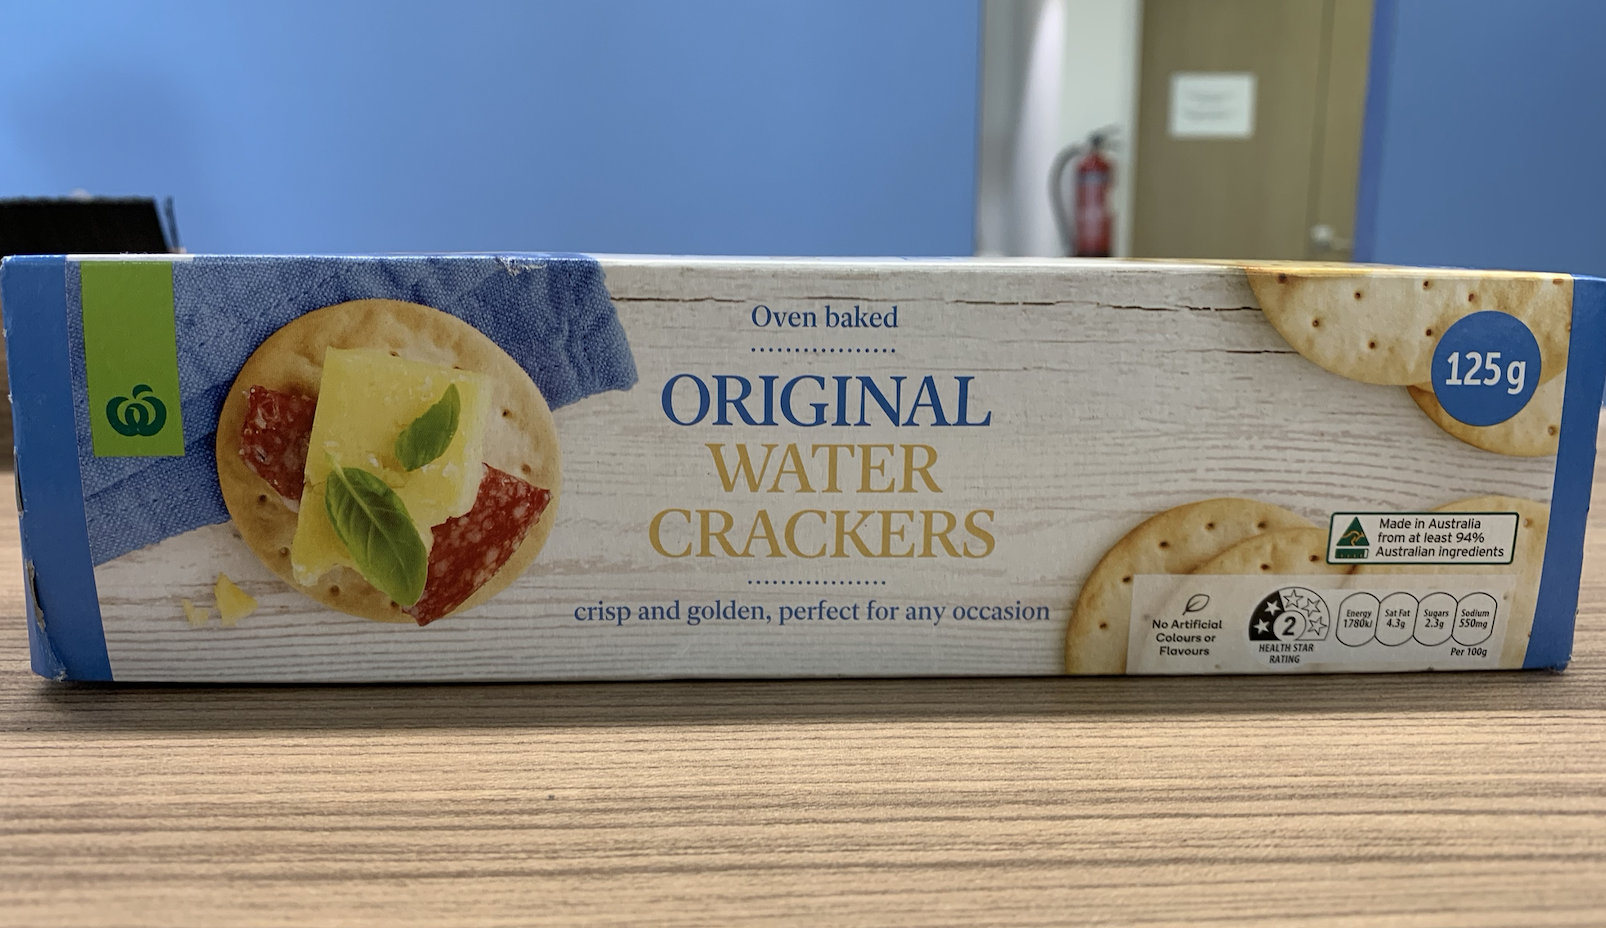crackers_150g: (33, 271, 1543, 671)
